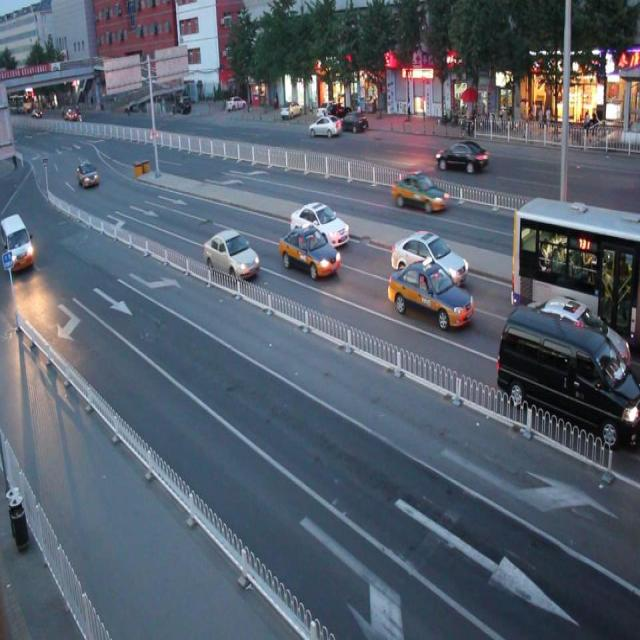car: (517, 294, 628, 391), (388, 260, 474, 330), (390, 228, 467, 283), (281, 222, 339, 280), (290, 198, 349, 248), (203, 228, 258, 280), (391, 168, 448, 214), (435, 139, 490, 174)
truck: (496, 300, 640, 446)
van: (510, 193, 640, 350)
